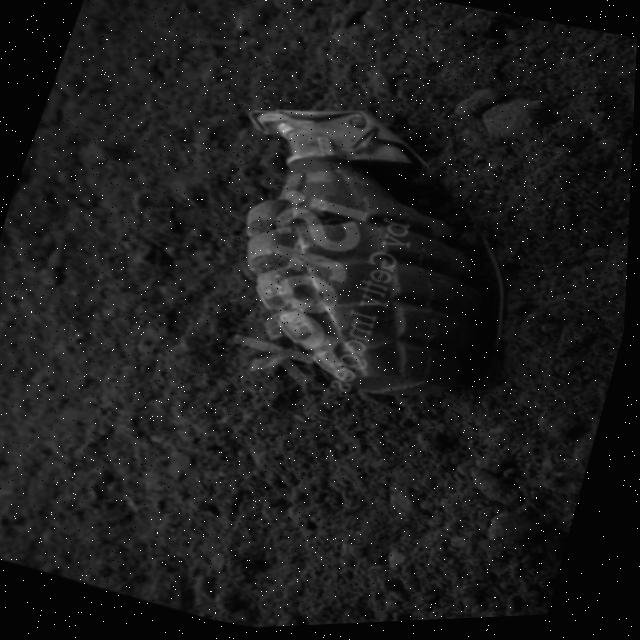grenade: (161, 68, 578, 451)
